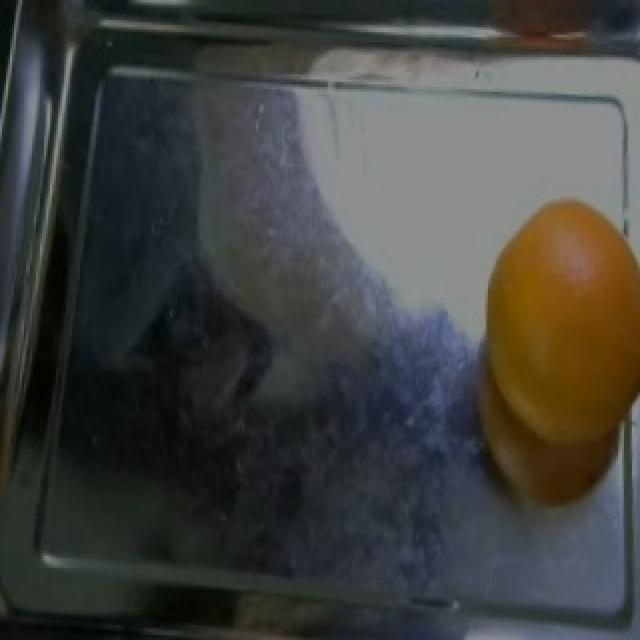Fruit: (480, 186, 636, 526)
